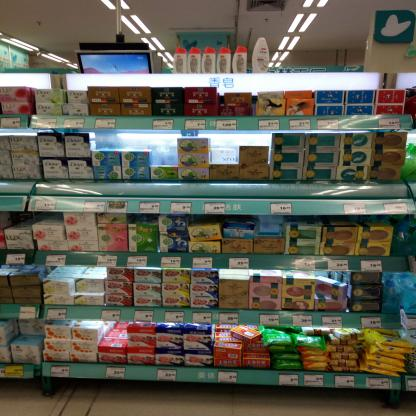Void: (91, 132, 148, 147), (152, 132, 176, 164), (213, 131, 235, 161), (240, 133, 271, 144), (10, 214, 30, 227)
